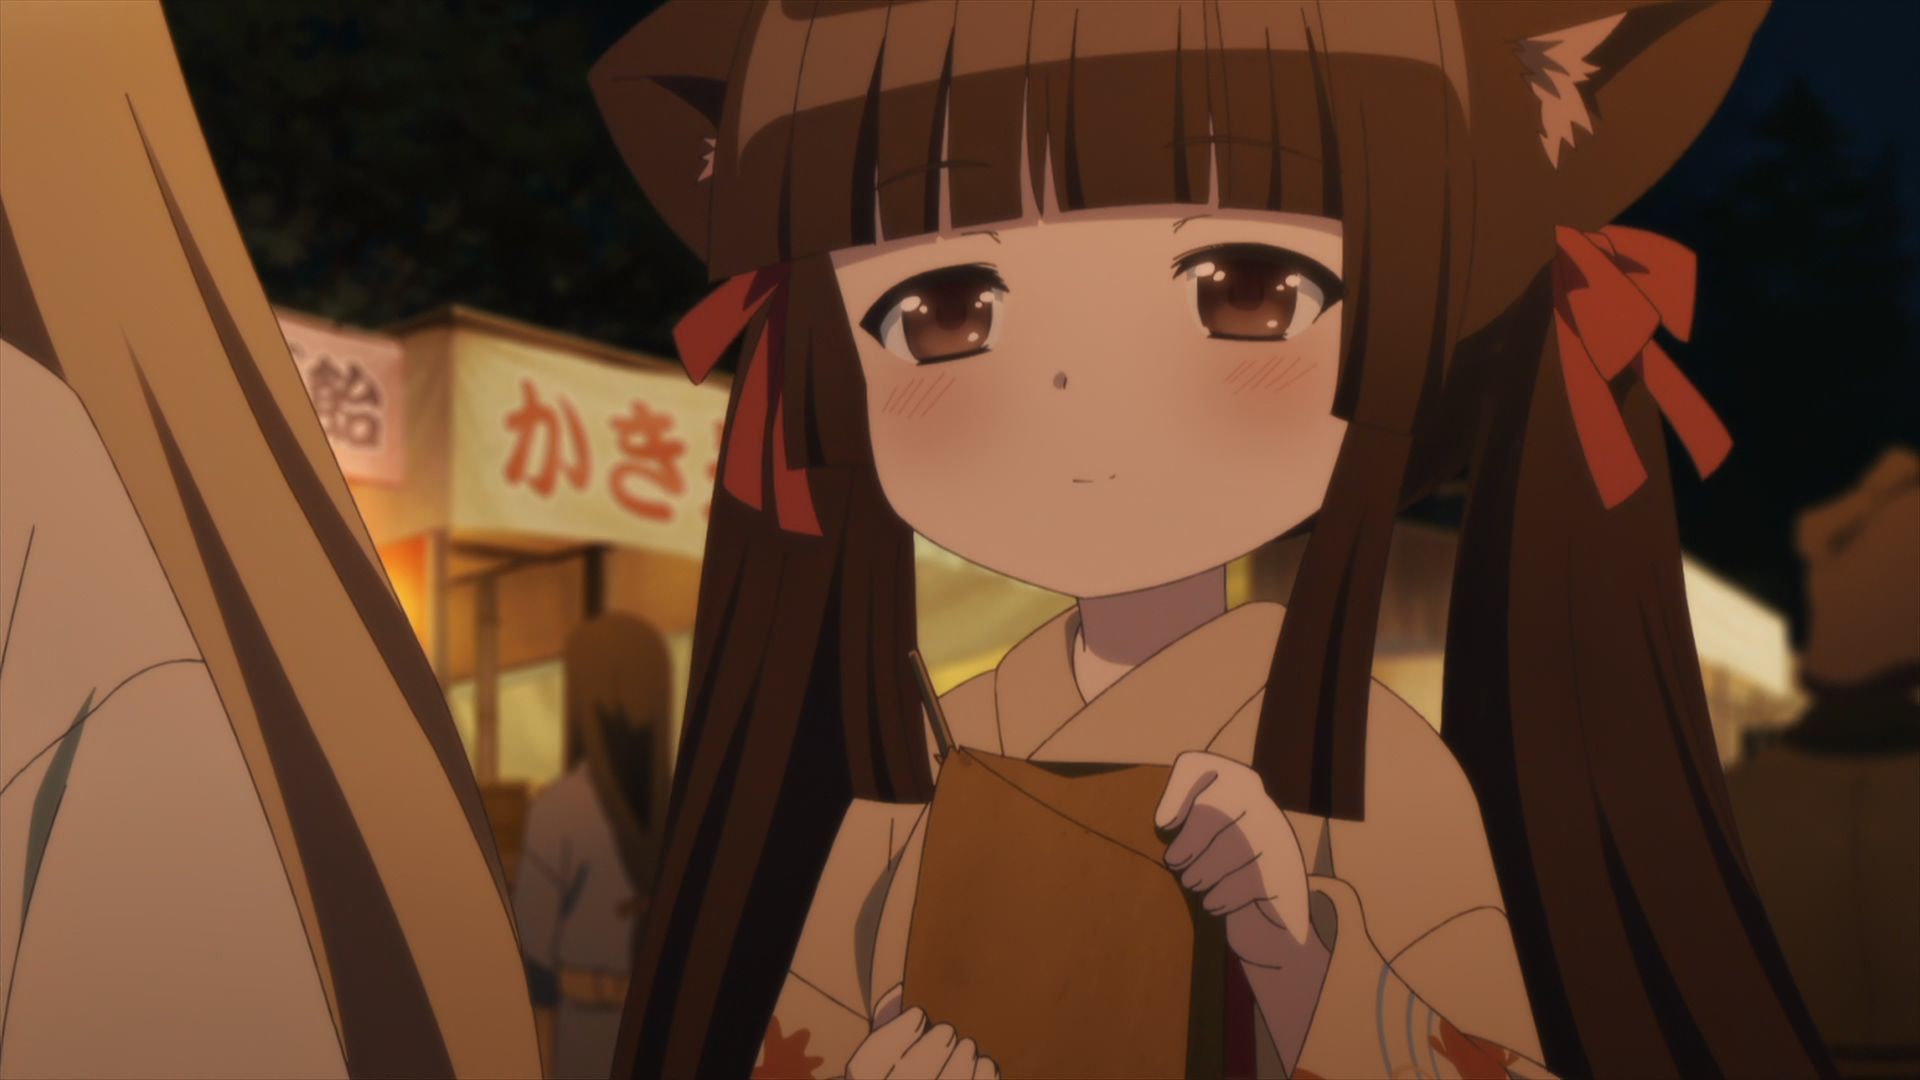其他: (518, 615, 675, 1080)
柚: (1, 1, 538, 1080)
樱: (589, 1, 1834, 1080)
